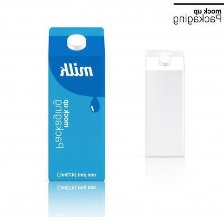carton: (37, 18, 111, 182), (137, 44, 188, 162)
